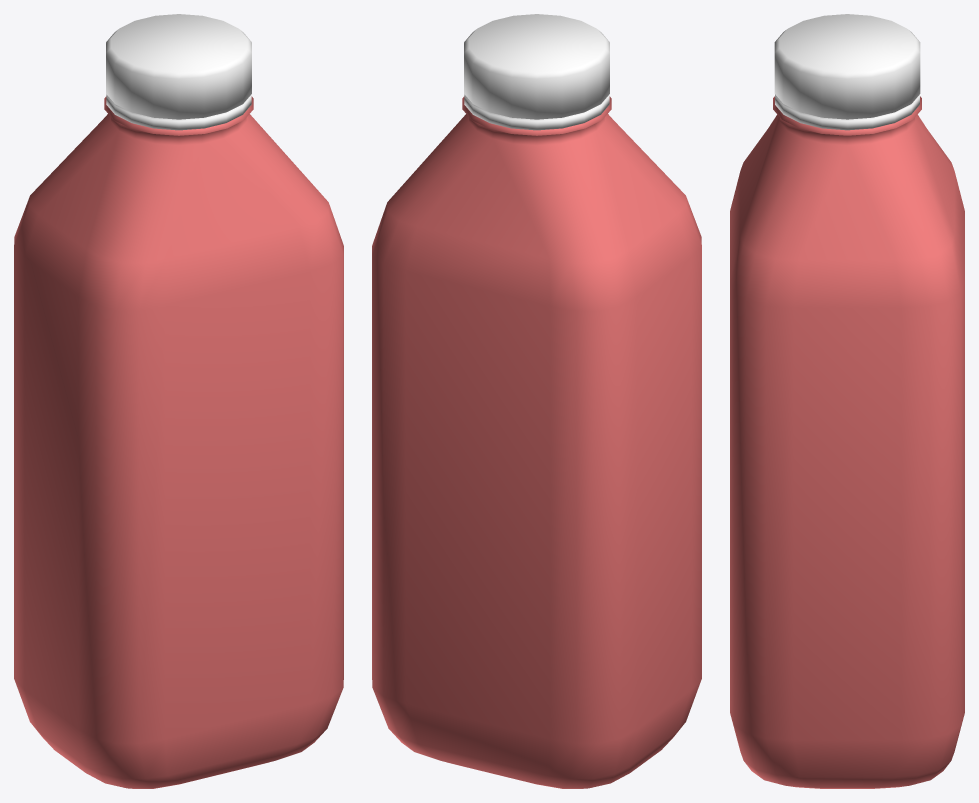
File: WaterBottle.fbx
3 renders of one model, left to right at view 1: azimuth 30°, elevation 25°; view 2: azimuth 150°, elevation 25°; view 3: azimuth 270°, elevation 25°, orthographic.
Parts seen in each view (by area): view 1: WaterBottle; view 2: WaterBottle; view 3: WaterBottle.
Boxes of the visible parts, x1,y1,x2,y2 form: WaterBottle: (14,14,343,788); WaterBottle: (372,14,701,788); WaterBottle: (730,14,964,788).
Bounding box in the file's own units: 0.8798 × 2.32 × 0.7019.
